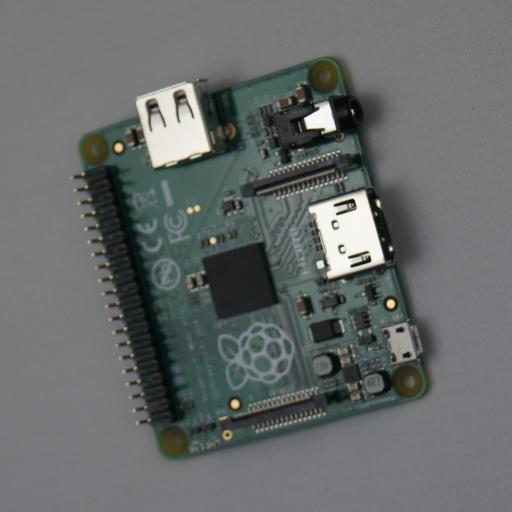Raspberry Pi A-: (74, 56, 435, 460)
